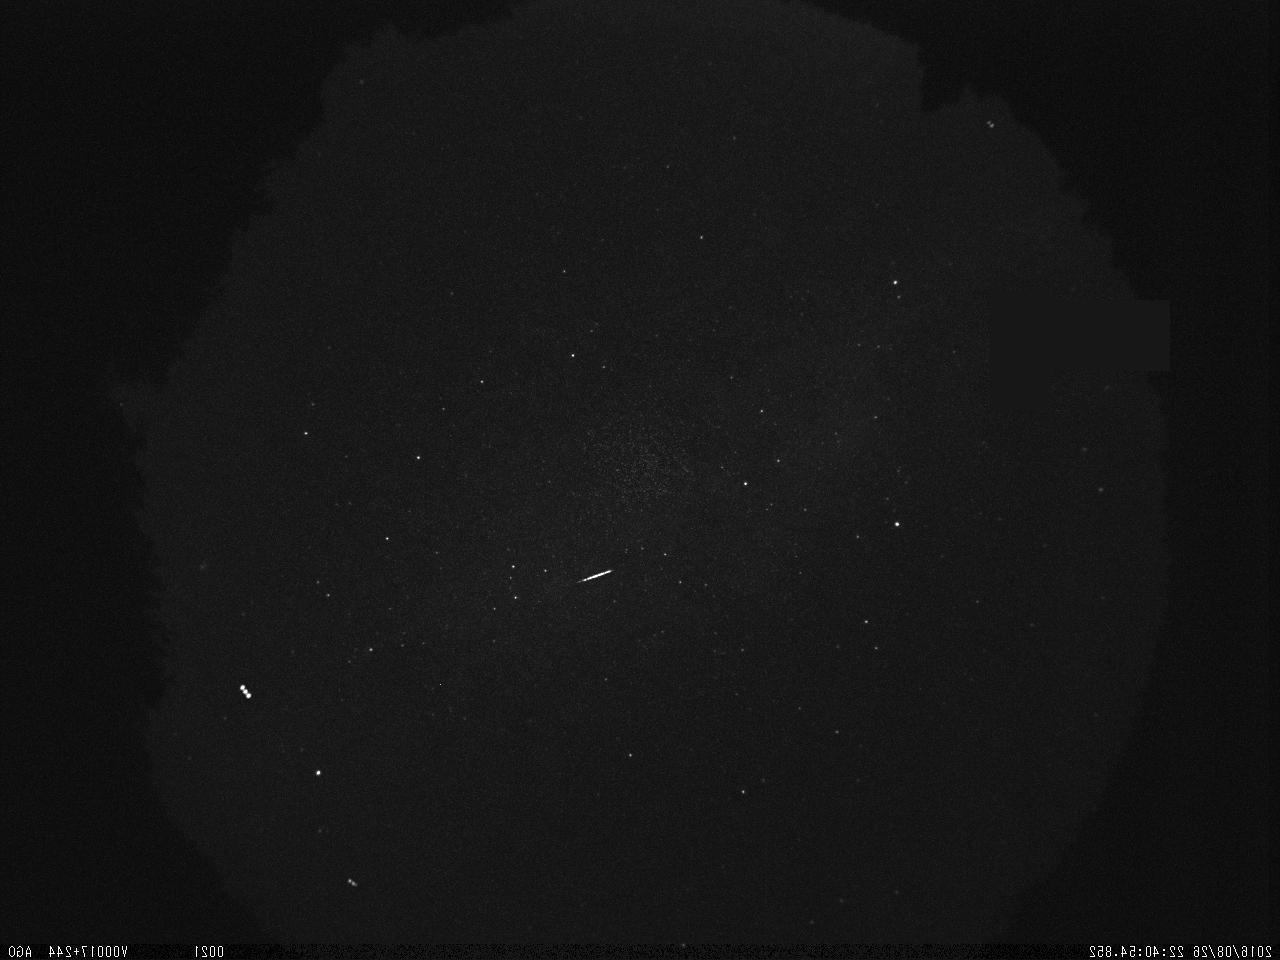meteor: (567, 562, 619, 598)
